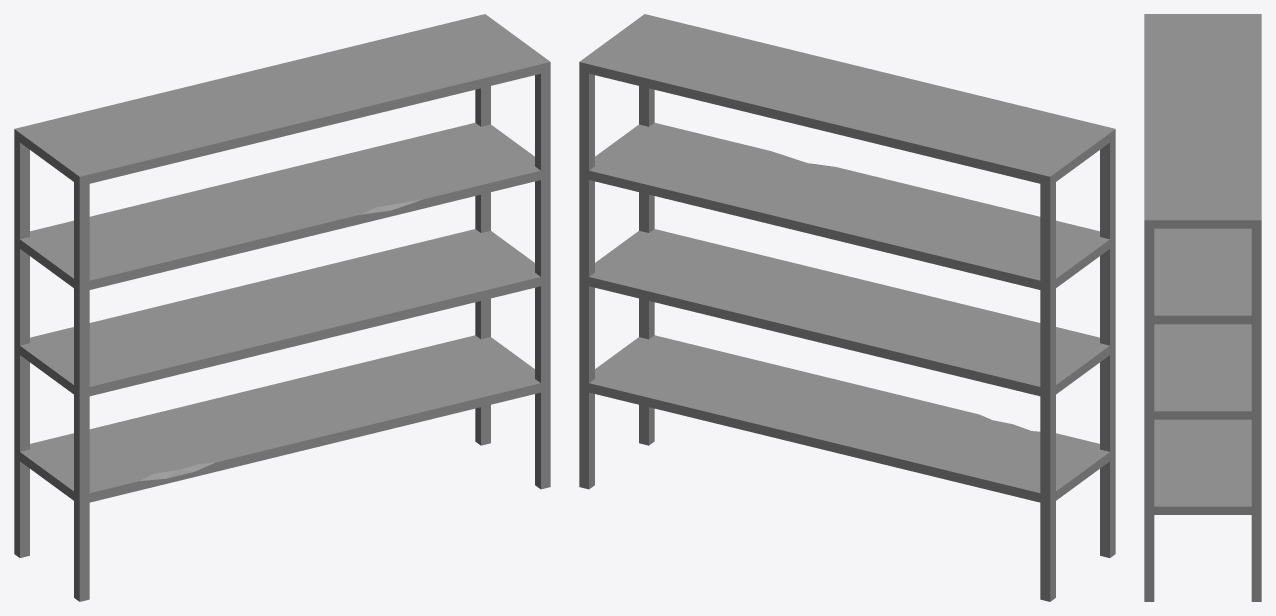
File: Wh_Shelf.fbx
3 renders of one model, left to right at view 1: azimuth 30°, elevation 25°; view 2: azimuth 150°, elevation 25°; view 3: azimuth 270°, elevation 25°, orthographic. The views are drawn at different scales.
Parts seen in each view (by area): view 1: Cube.814; view 2: Cube.814; view 3: Cube.814.
Boxes of the visible parts, x1,y1,x2,y2 form: Cube.814: (14,14,550,601); Cube.814: (579,14,1115,601); Cube.814: (1144,14,1261,601).
Size of the model in its own units: 300 by 259 by 72.28.
